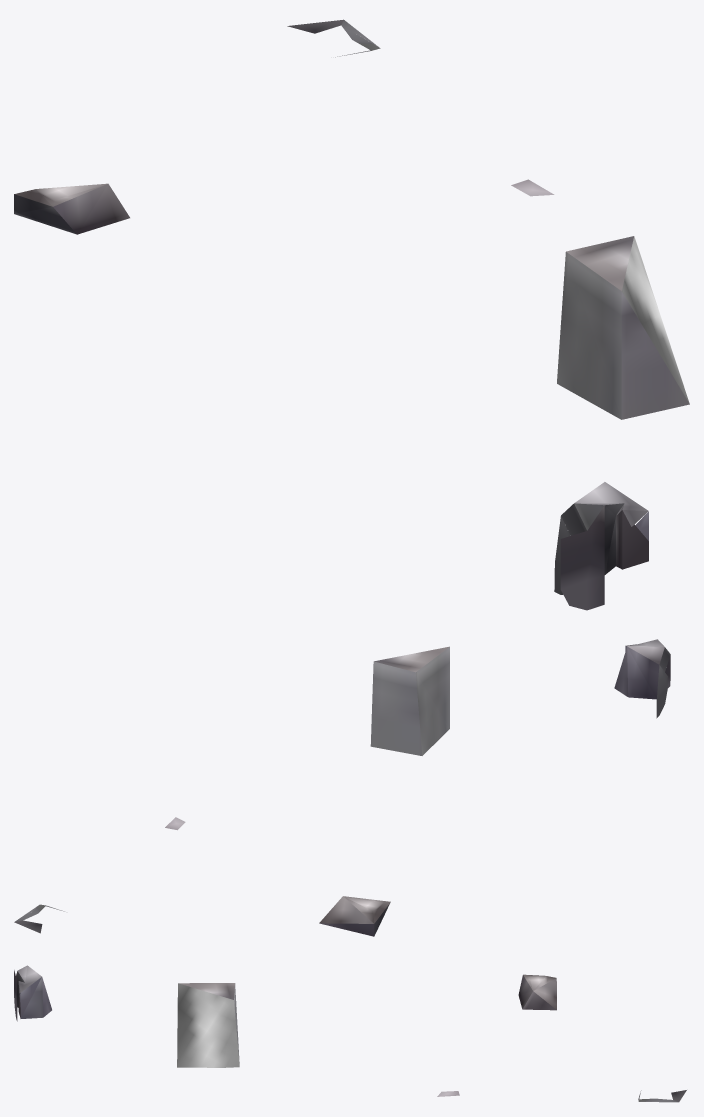
3 renders of one model, top to bottom at view 1: azimuth 30°, elevation 25°; view 2: azimuth 150°, elevation 25°; view 3: azimuth 270°, elevation 25°, orthographic. The views are drawn at different scales.
Parts seen in each view (by area): view 1: Mesh_0; view 2: Mesh_0; view 3: Mesh_0.
Boxes of the visible parts, box(x1,y1,x2,y2) form: Mesh_0: box(14, 19, 689, 610); Mesh_0: box(14, 639, 670, 936); Mesh_0: box(14, 965, 686, 1102).
Bounding box in the file's own units: 233 × 79.07 × 584.
Materials: 1 (1 with a texture image).
